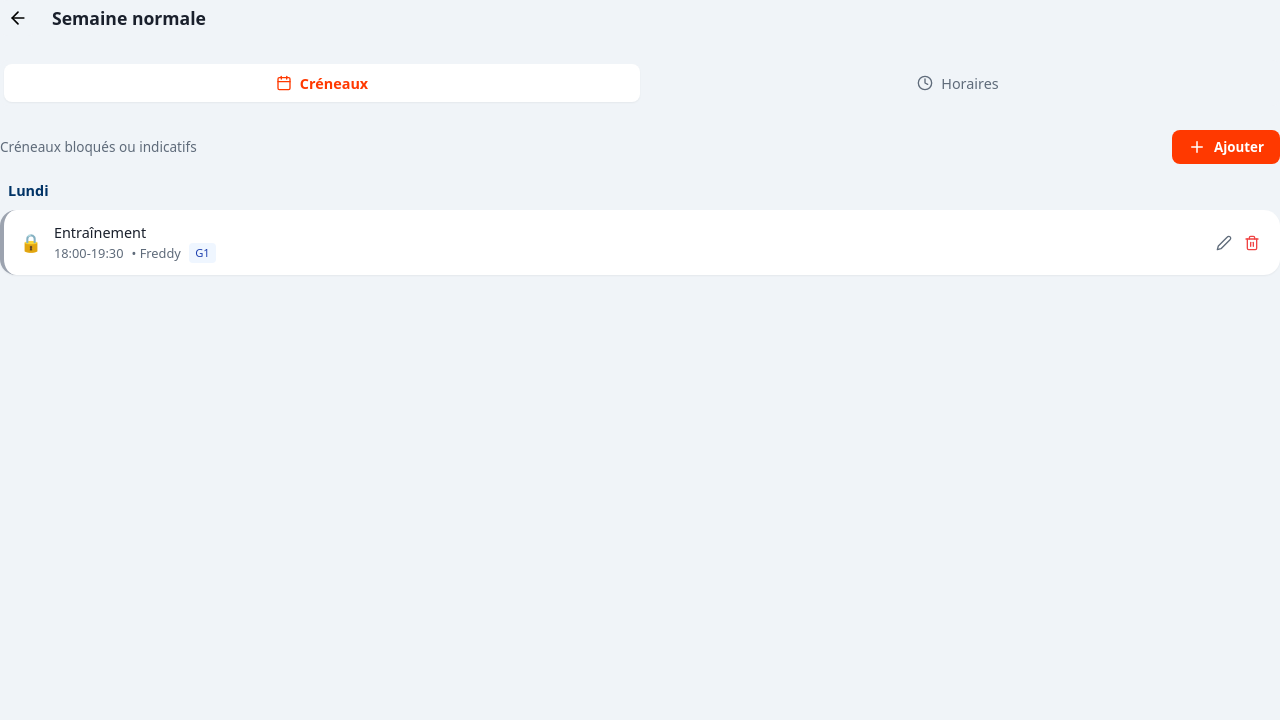
Test: TemplateEditor › ouvre la modal au clic sur Ajouter et affiche le formulaire
The image size is (1280, 720).
Click the button "Ajouter" at {"x": 1226, "y": 147}, box [1172,130,1279,164]
(page scrolled)
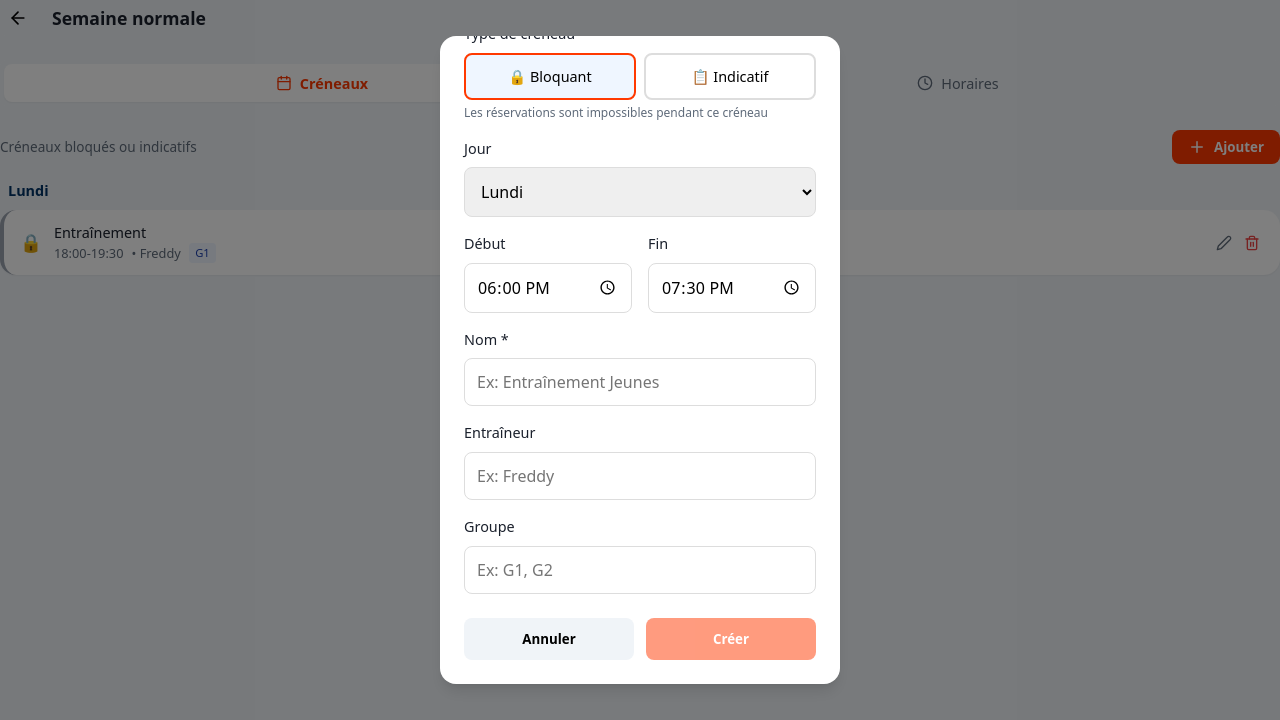
Result: the button "Créer" is shown at [646,618,816,660]
